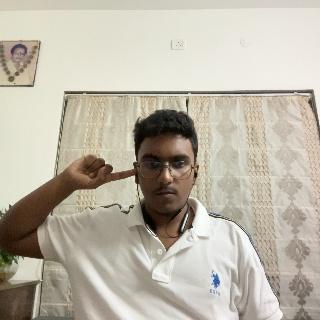Deaf: (57, 152, 137, 194)
Face: (135, 110, 198, 215)
